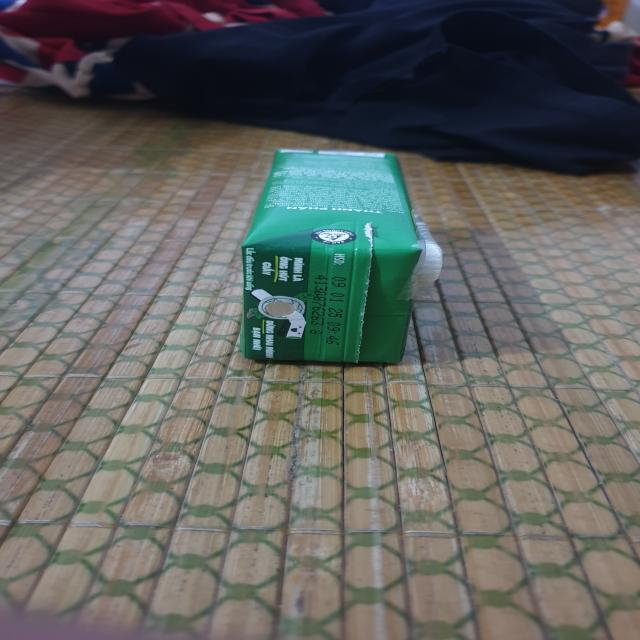Milo: (241, 150, 427, 363)
